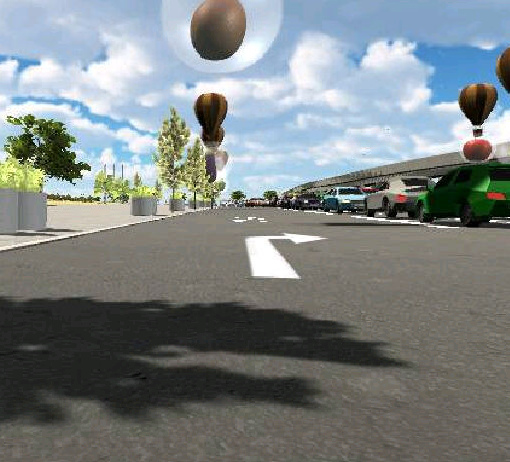ground_right: (238, 233, 331, 245)
